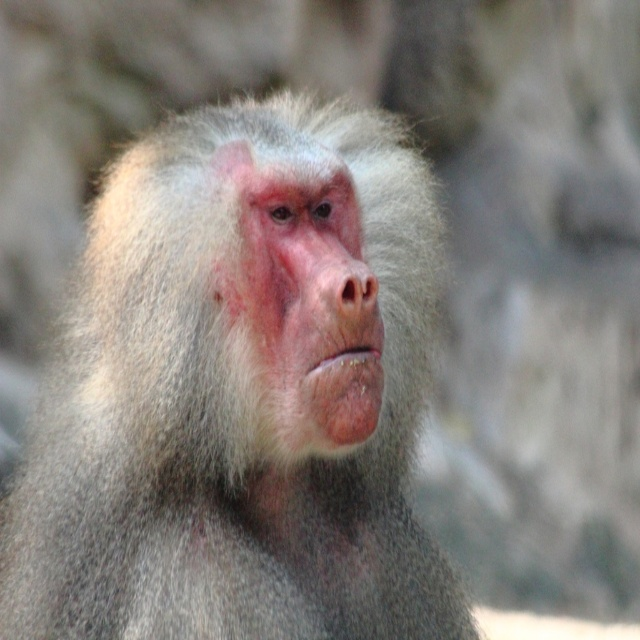Monkey: (0, 78, 492, 640)
